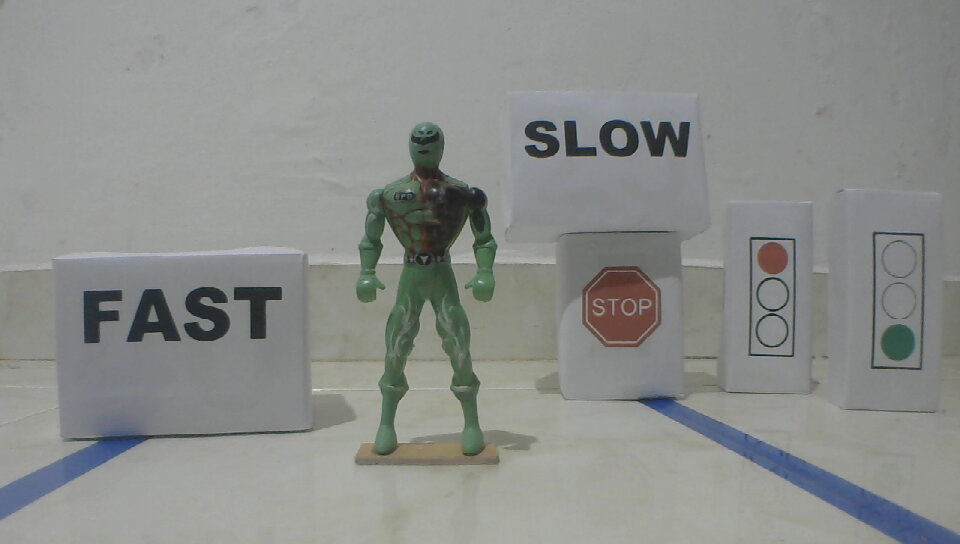Fast: (80, 285, 289, 347)
Green Traffic Light: (868, 228, 928, 376)
Person: (350, 120, 498, 458)
Red Traffic Light: (745, 232, 800, 360)
Slow: (523, 118, 693, 162)
Stop Sign: (580, 263, 663, 350)
